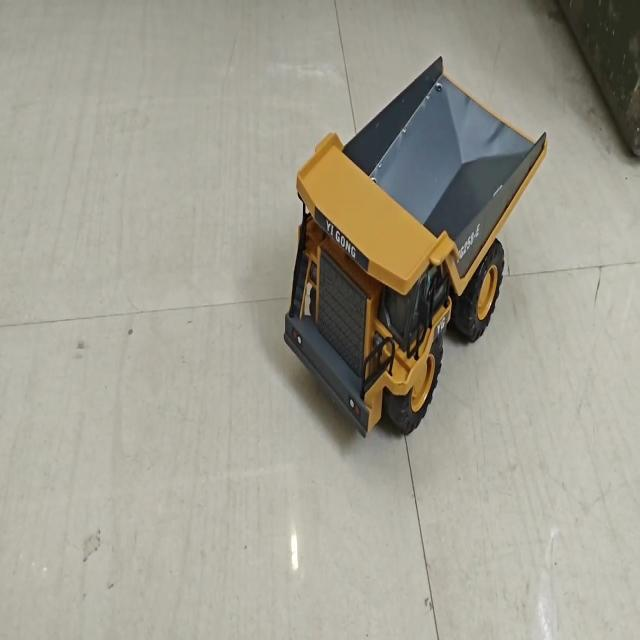dump_truck: (269, 48, 548, 442)
